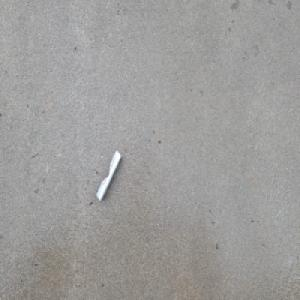ClampPart: (95, 149, 121, 203)
